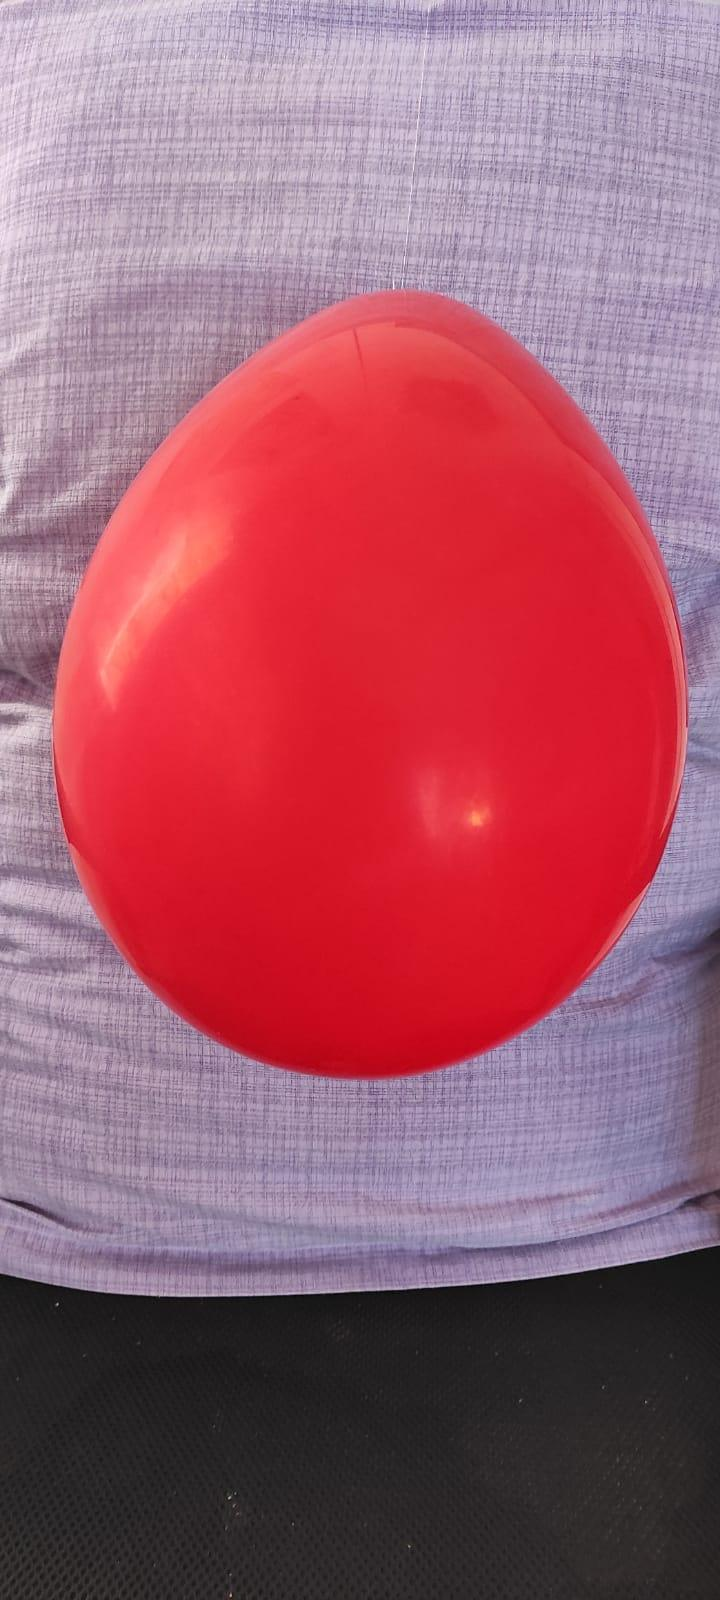red: (47, 278, 698, 1087)
